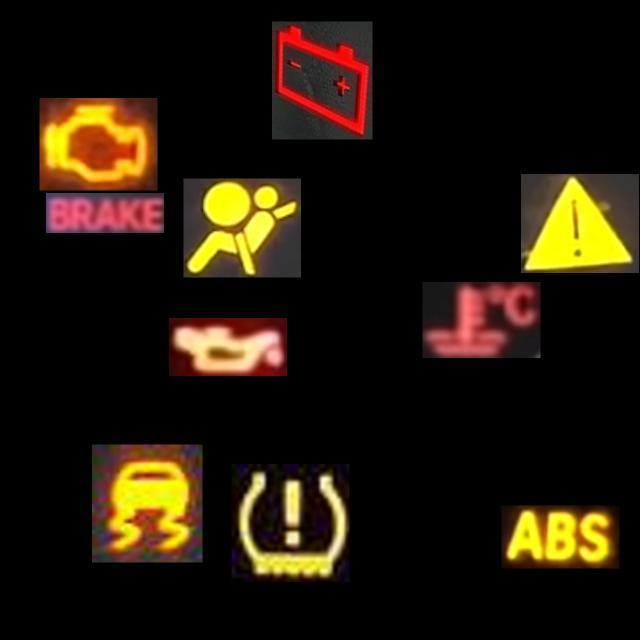Central Warning lamp: (521, 174, 639, 273)
Engine cooling system: (422, 282, 540, 358)
